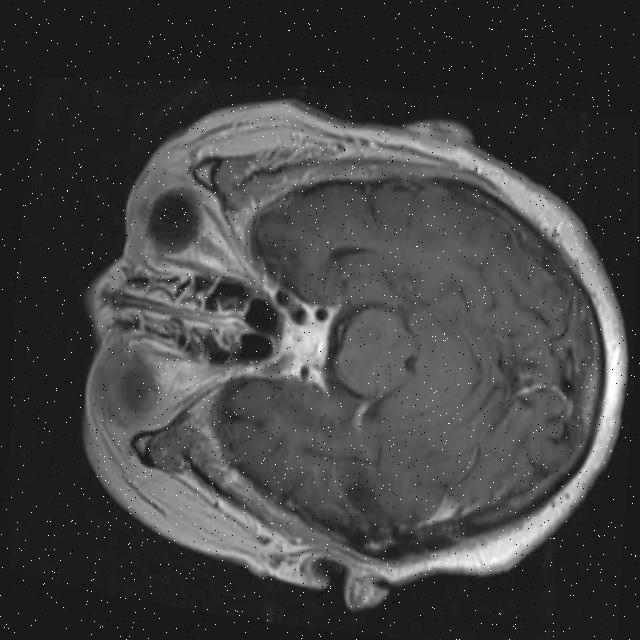Pituitary: (279, 313, 331, 368)
